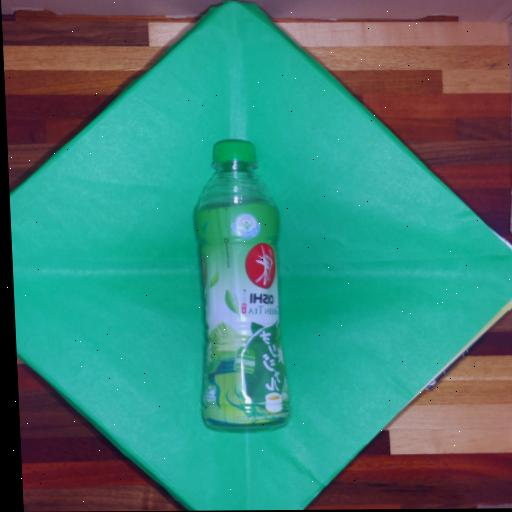bottle: (172, 128, 309, 461)
